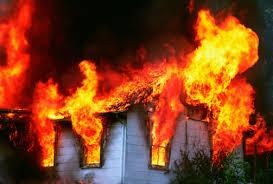fire: (44, 8, 270, 162)
